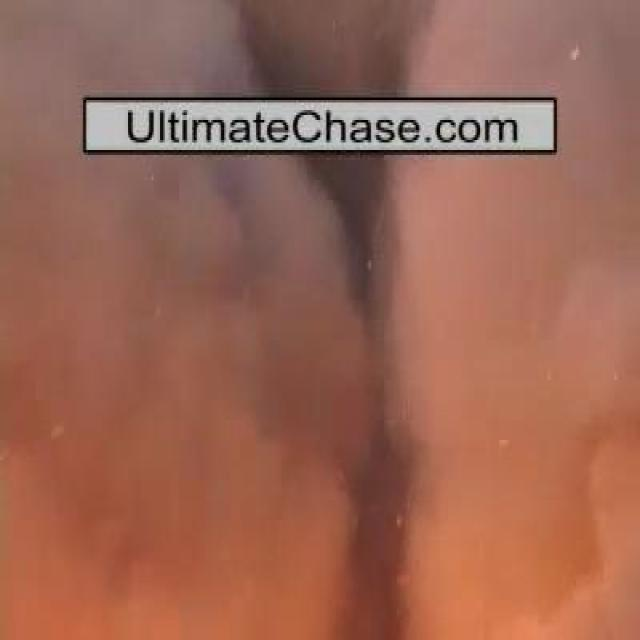Smoke: (151, 174, 524, 528)
